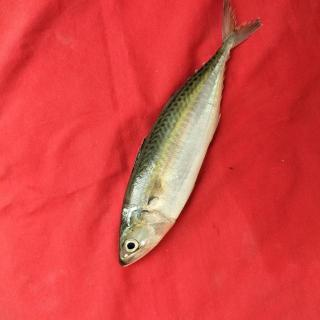Ikan: (108, 3, 275, 274)
